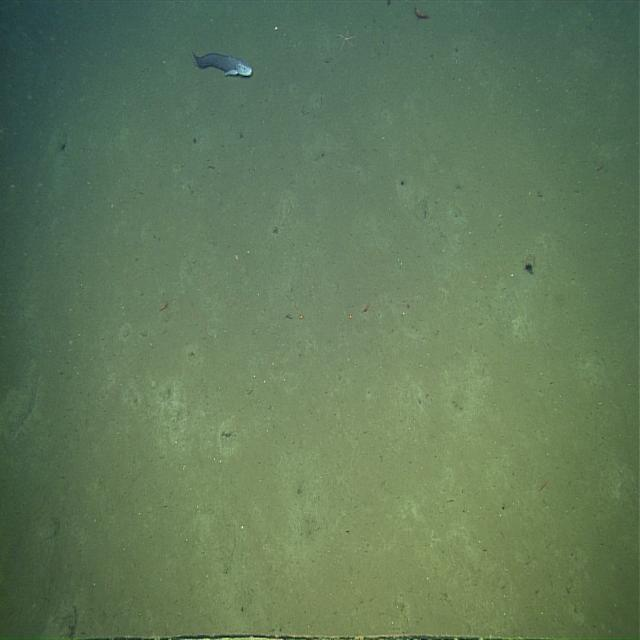Brittle Star: (336, 22, 356, 54)
Not Brittle Star: (190, 44, 254, 82), (413, 5, 431, 23)
